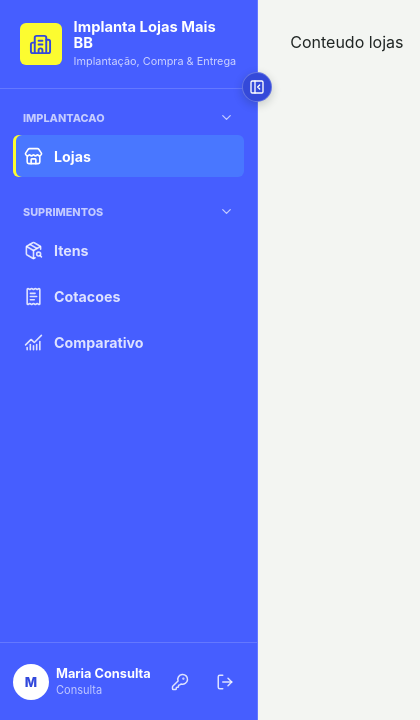
Test: AppShell › recolhe a barra lateral e persiste a preferencia no navegador
Click the button named "Recolher menu lateral" at (257, 87), box [242,72,272,102]
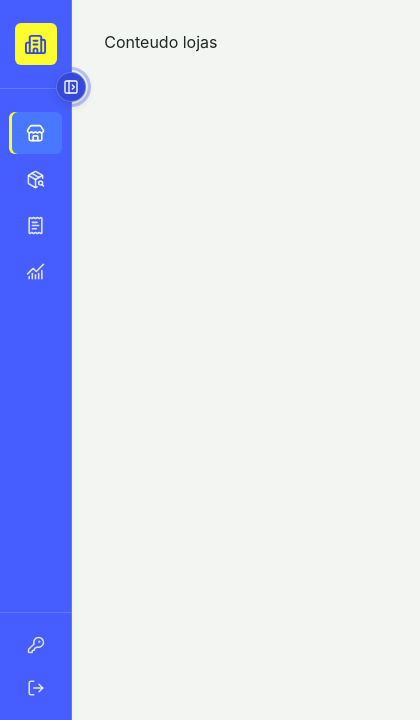
Expected: the button named "Expandir menu lateral" is shown, [56,72,86,102]
